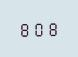eight: (18, 20, 30, 37), (45, 19, 57, 36)
zero: (32, 20, 44, 36)
